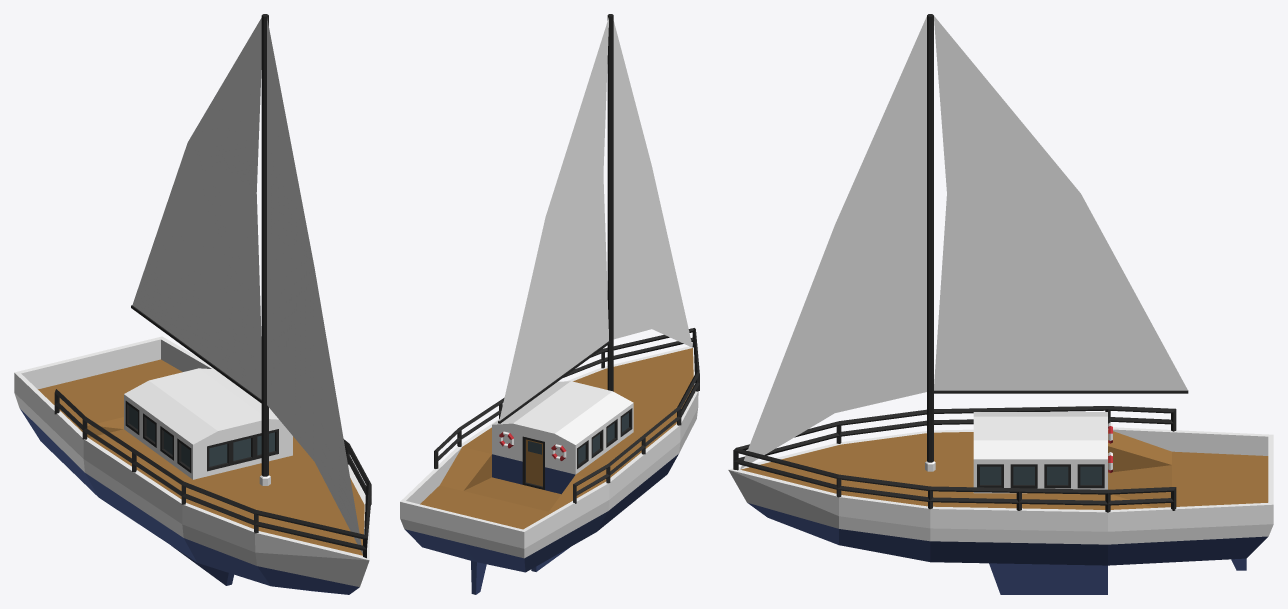
File: vehicles_boat-sail.fbx
3 views of the same model, side by side, from view 1: azimuth 30°, elevation 25°; view 2: azimuth 150°, elevation 25°; view 3: azimuth 270°, elevation 25° (orthographic). The views are drawn at different scales.
Parts seen in each view (by area): view 1: vehicles_boat_sail; view 2: vehicles_boat_sail; view 3: vehicles_boat_sail.
Part boxes in pixels (left/top/right/bottom): vehicles_boat_sail: left=14, top=14, right=371, bottom=594; vehicles_boat_sail: left=400, top=14, right=699, bottom=594; vehicles_boat_sail: left=728, top=14, right=1273, bottom=594.
Bounding box in the file's own units: 63.93 × 200 × 171.
